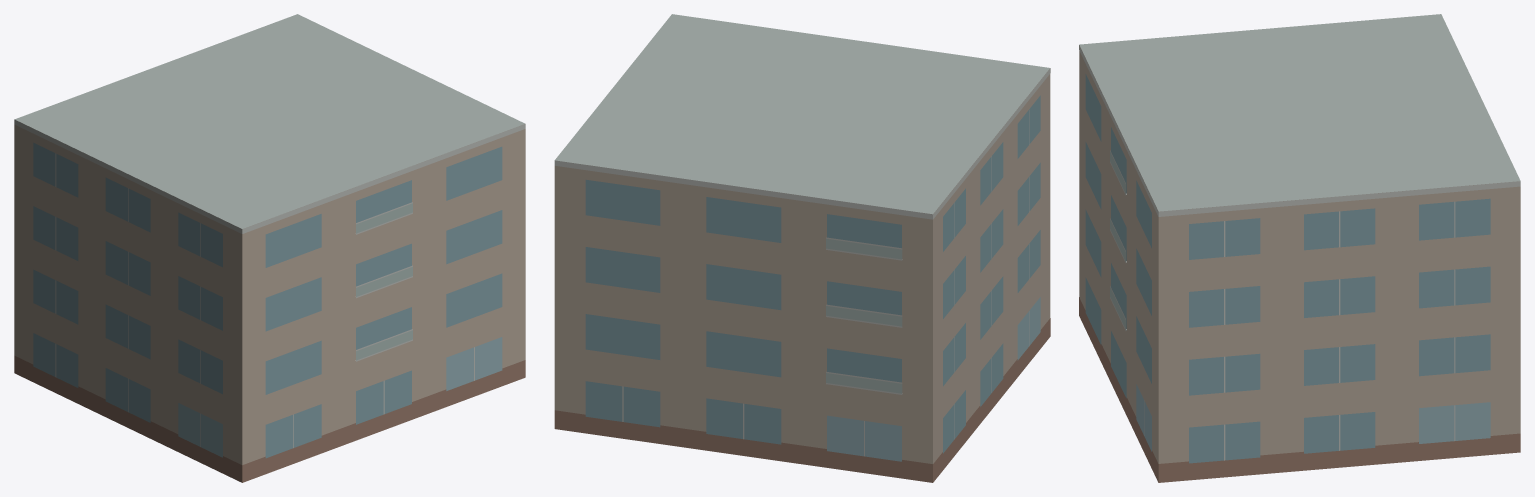
Rendered from survey-upis-33015980.glb.
The picture shows the model from 3 angles, left to right: view 1: azimuth 30°, elevation 25°; view 2: azimuth 150°, elevation 25°; view 3: azimuth 270°, elevation 25°; orthographic projection. The views are drawn at different scales.
Visible parts, largest first — view 1: survey-upis-33015980.tmp; view 2: survey-upis-33015980.tmp; view 3: survey-upis-33015980.tmp.
Part boxes in pixels (left/top/right/bottom): survey-upis-33015980.tmp: left=14, top=14, right=525, bottom=482; survey-upis-33015980.tmp: left=554, top=14, right=1050, bottom=482; survey-upis-33015980.tmp: left=1079, top=14, right=1520, bottom=482.
Bounding box in the file's own units: 19.07 × 12.2 × 18.01.
